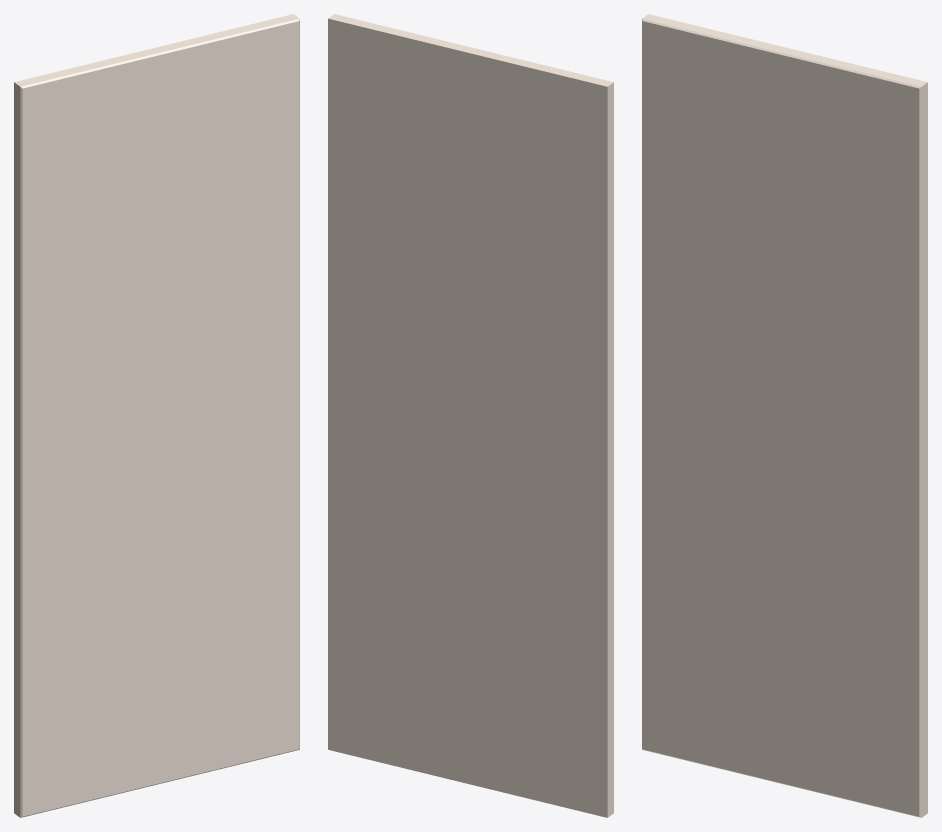
File: Real HIR.glb
3 renders of one model, left to right at view 1: azimuth 30°, elevation 25°; view 2: azimuth 150°, elevation 25°; view 3: azimuth 330°, elevation 25°, orthographic.
Parts seen in each view (by area): view 1: 2604; view 2: 2604; view 3: 2604.
Part boxes in pixels (left/top/right/bottom): 2604: left=14, top=14, right=299, bottom=817; 2604: left=328, top=14, right=613, bottom=817; 2604: left=642, top=14, right=927, bottom=817.
Bounding box in the file's own units: 1.22 × 3.05 × 0.054.
